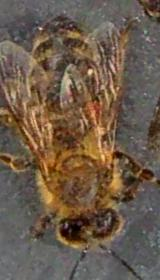varroa_mite: (76, 94, 110, 128)
